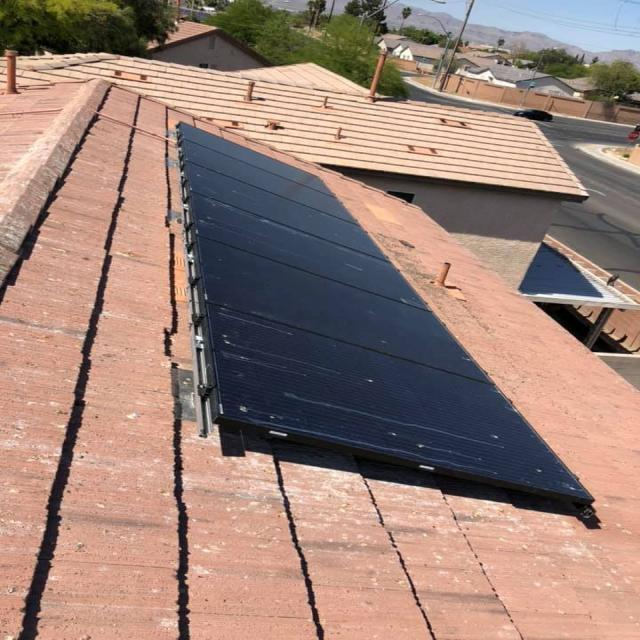dust-solar-panel: (187, 188, 587, 491)
